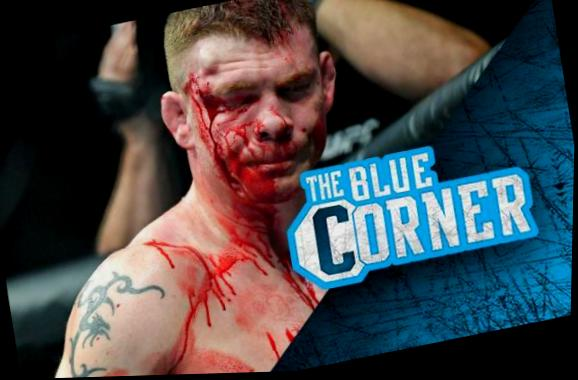Fire: (98, 73, 333, 378)
